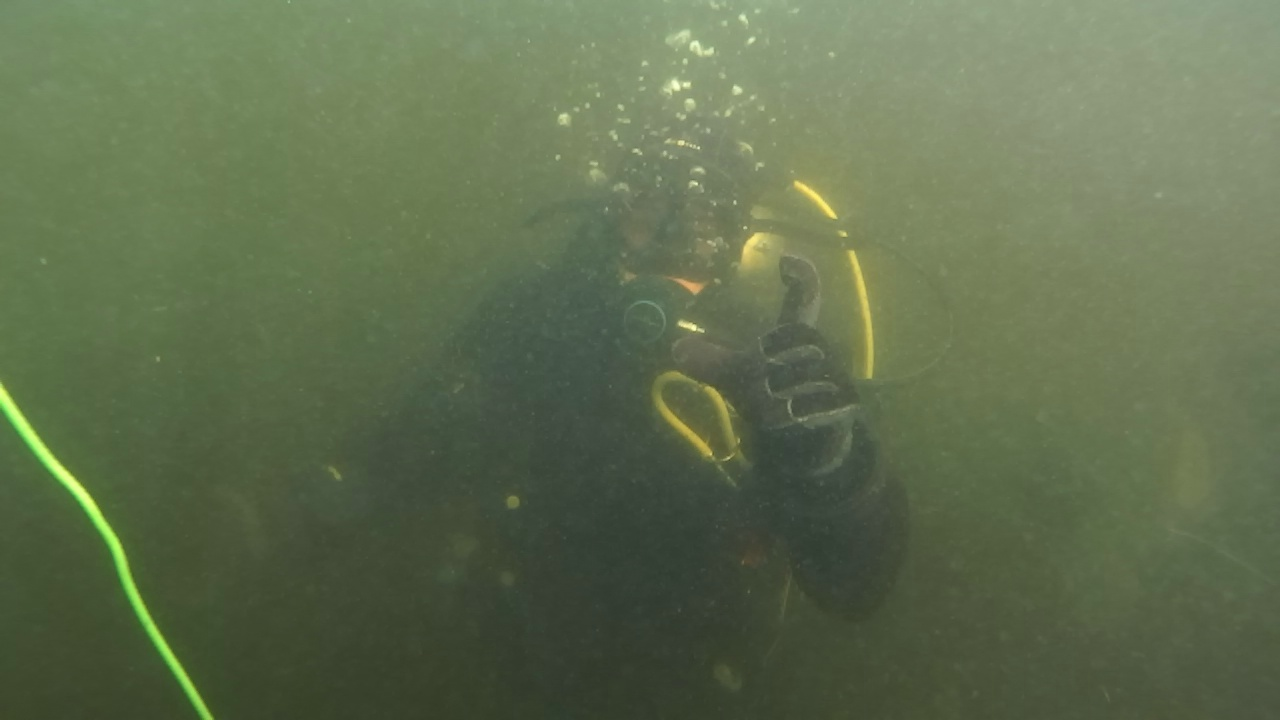Diver: (268, 108, 924, 706)
Hand: (668, 248, 878, 470)
Head: (578, 118, 744, 340)
